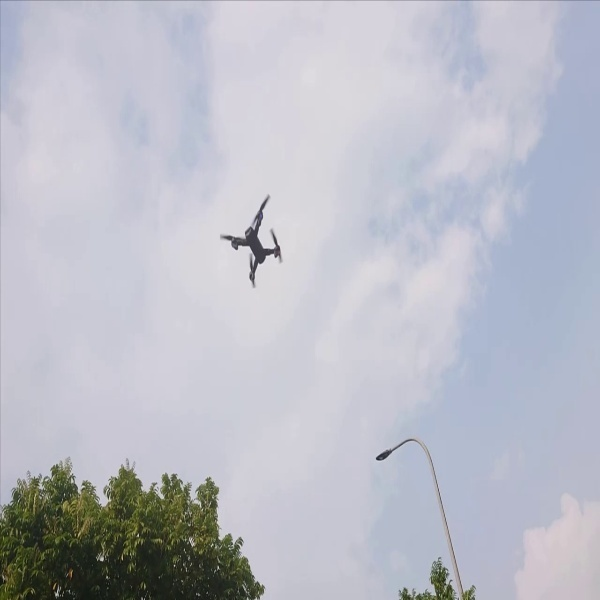drone: (202, 185, 294, 293)
